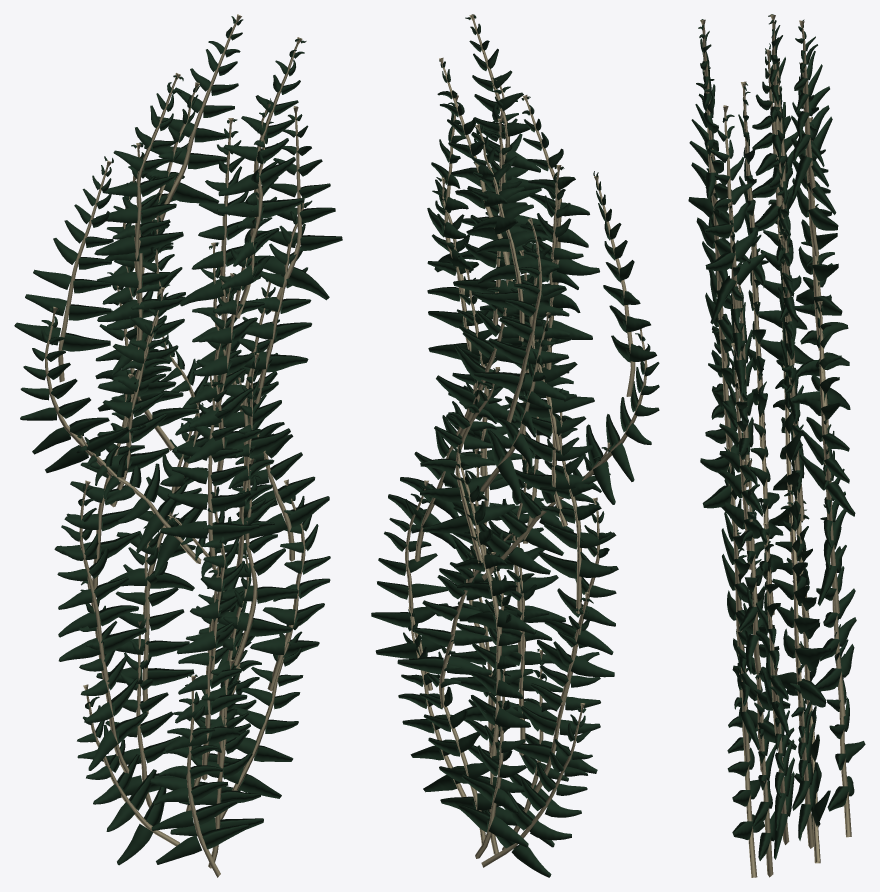
The model's file is SeaPlant1.fbx.
3 renders of one model, left to right at view 1: azimuth 30°, elevation 25°; view 2: azimuth 150°, elevation 25°; view 3: azimuth 270°, elevation 25°, orthographic. The views are drawn at different scales.
Parts seen in each view (by area): view 1: fernOrnament2Main; view 2: fernOrnament2Main; view 3: fernOrnament2Main.
Boxes of the visible parts, x1=… form: fernOrnament2Main: x1=14, y1=14, x2=342, y2=877; fernOrnament2Main: x1=371, y1=14, x2=659, y2=877; fernOrnament2Main: x1=688, y1=14, x2=865, y2=877.
Bounding box in the file's own units: 1.98 × 5.25 × 0.9495.
